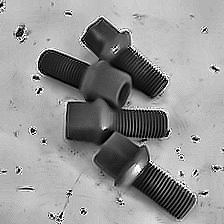holes: (165, 129, 224, 197), (46, 187, 90, 224), (1, 164, 37, 197), (26, 125, 52, 150), (11, 23, 35, 46), (28, 72, 45, 99), (59, 5, 76, 21), (208, 61, 222, 78), (198, 23, 214, 37), (114, 194, 127, 210), (1, 1, 8, 16)
